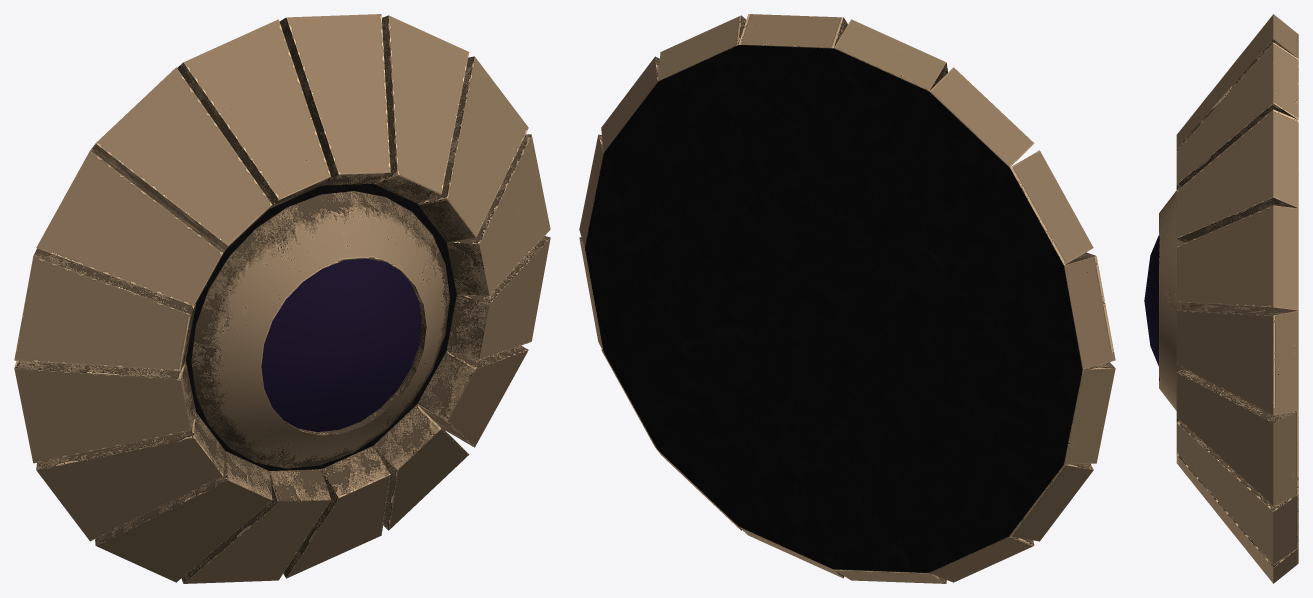
File: Iris.obj
The picture shows the model from 3 angles, left to right: view 1: azimuth 30°, elevation 25°; view 2: azimuth 150°, elevation 25°; view 3: azimuth 270°, elevation 25°; orthographic projection. The views are drawn at different scales.
Parts seen in each view (by area): view 1: Cone001; view 2: Cone001; view 3: Cone001.
Boxes of the visible parts, x1,y1,x2,y2 form: Cone001: (14, 14, 550, 583); Cone001: (579, 14, 1115, 583); Cone001: (1144, 14, 1298, 583).
Size of the model in its own units: 2.17 by 2.17 by 0.5876.
Materials: 1 (1 with a texture image).
